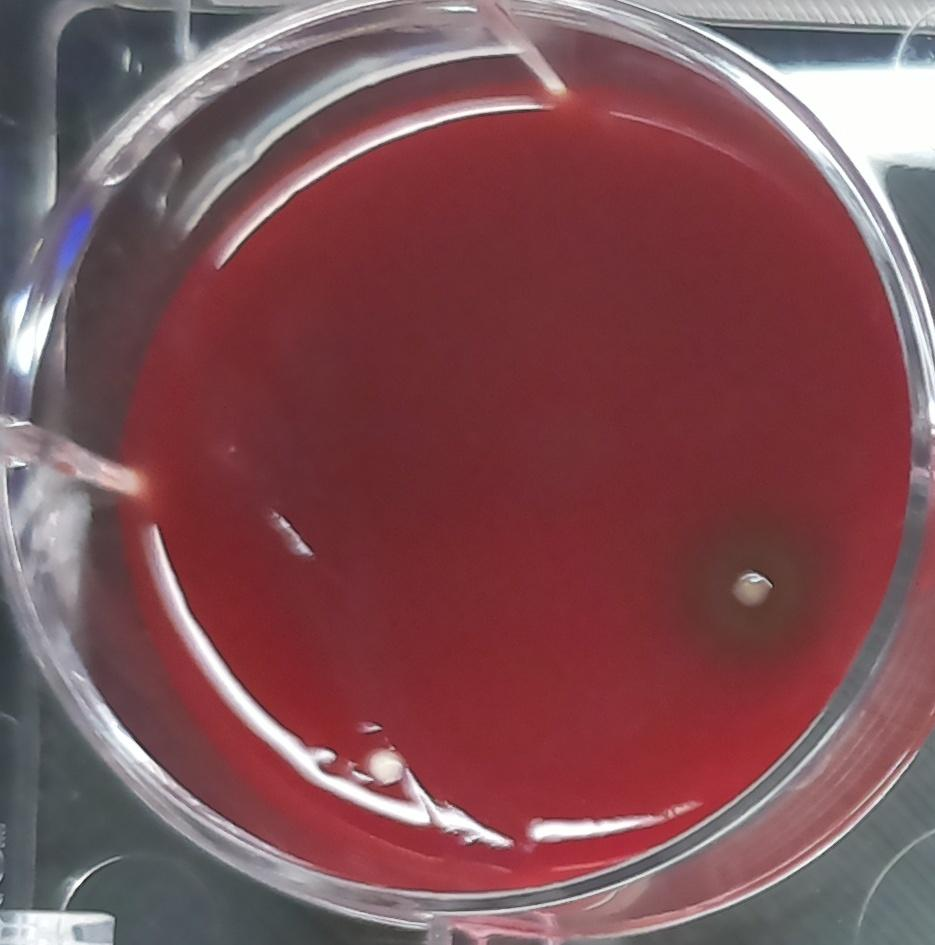vfluvialis: (659, 505, 839, 681)
